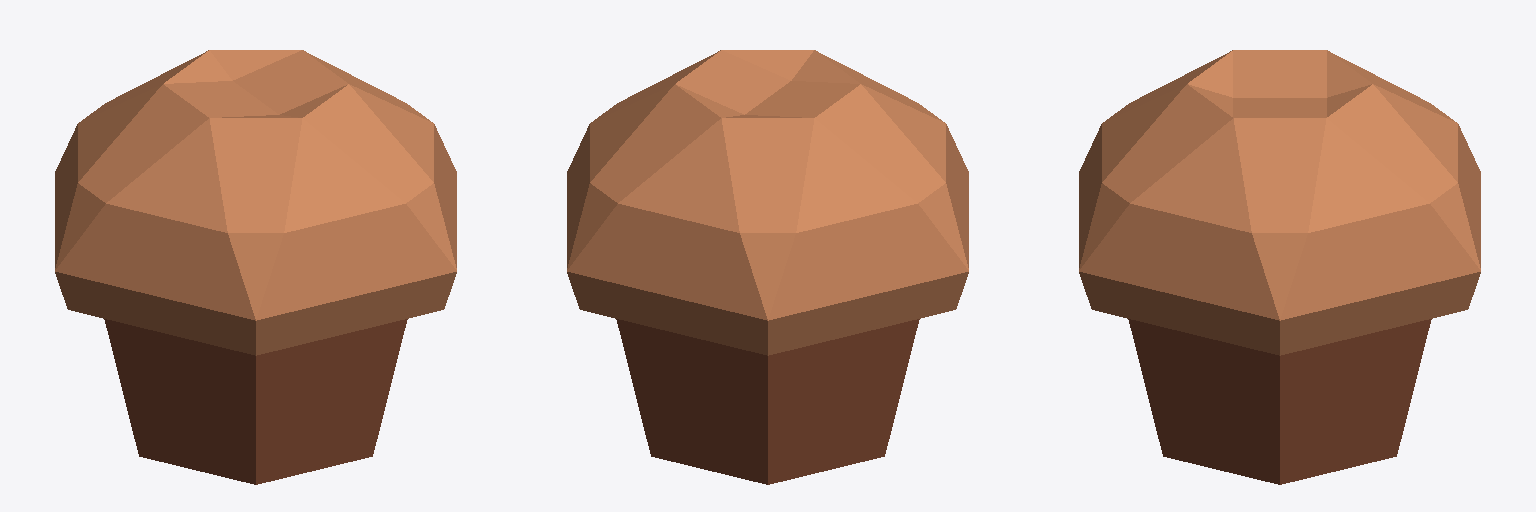
The model's file is muffin.obj.
The picture shows the model from 3 angles: view 1: azimuth 30°, elevation 25°; view 2: azimuth 150°, elevation 25°; view 3: azimuth 270°, elevation 25°; orthographic projection.
Visible parts, largest first — view 1: muffin; view 2: muffin; view 3: muffin.
Boxes of the visible parts, <box> form: muffin: <box>55,50,456,484</box>; muffin: <box>567,50,968,484</box>; muffin: <box>1079,50,1480,484</box>.
Bounding box in the file's own units: 0.3047 × 0.2486 × 0.2639.